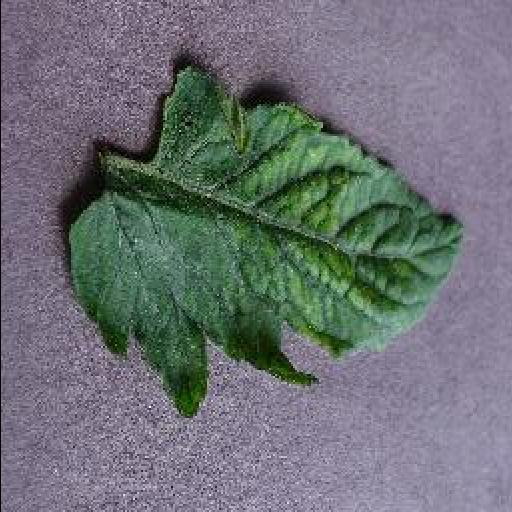Mosaic Virus: (62, 61, 472, 427)
